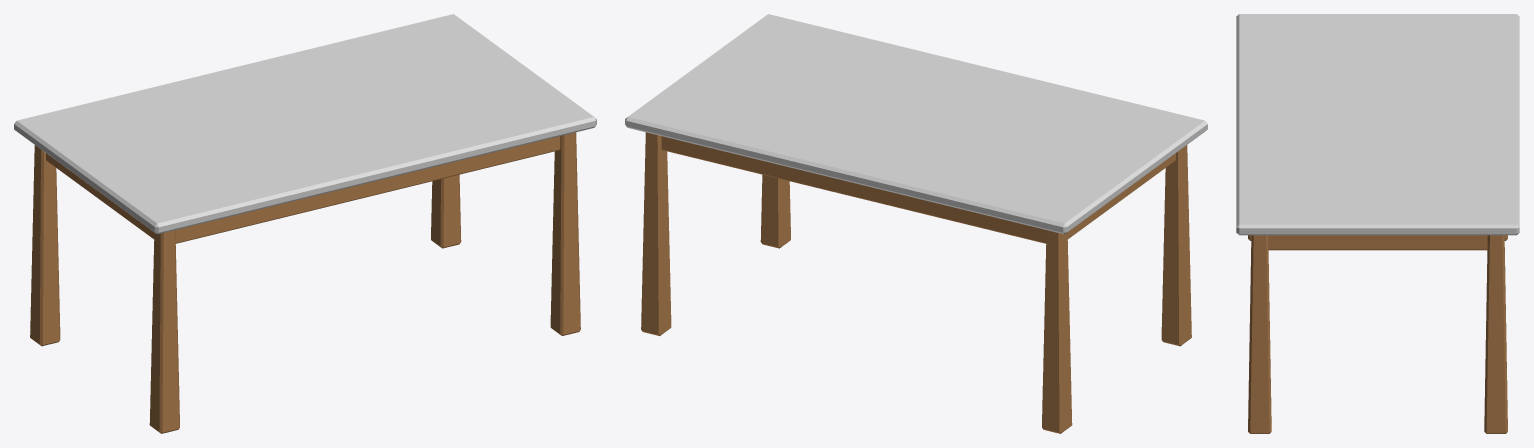
File: table-dining-4.glb
3 renders of one model, left to right at view 1: azimuth 30°, elevation 25°; view 2: azimuth 150°, elevation 25°; view 3: azimuth 270°, elevation 25°, orthographic.
Parts seen in each view (by area): view 1: table-dining-4.tint, table-dining-4.wood; view 2: table-dining-4.tint, table-dining-4.wood; view 3: table-dining-4.tint, table-dining-4.wood.
Part boxes in pixels (bbox=[...]): table-dining-4.tint: bbox=[14, 14, 596, 234]; table-dining-4.wood: bbox=[30, 132, 580, 433]; table-dining-4.tint: bbox=[625, 14, 1207, 234]; table-dining-4.wood: bbox=[641, 132, 1191, 433]; table-dining-4.tint: bbox=[1236, 14, 1519, 235]; table-dining-4.wood: bbox=[1248, 235, 1507, 433].
Bounding box in the file's own units: 1.6 × 0.75 × 0.9.
